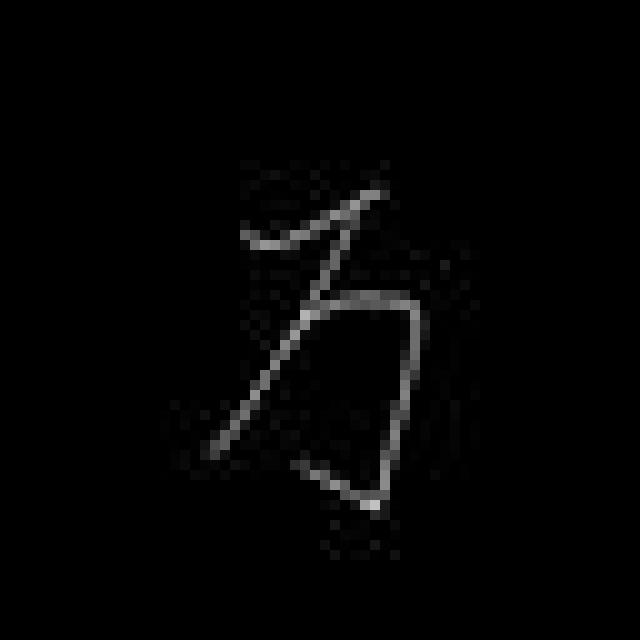10000 -a ten thousand-: (192, 175, 439, 535)
